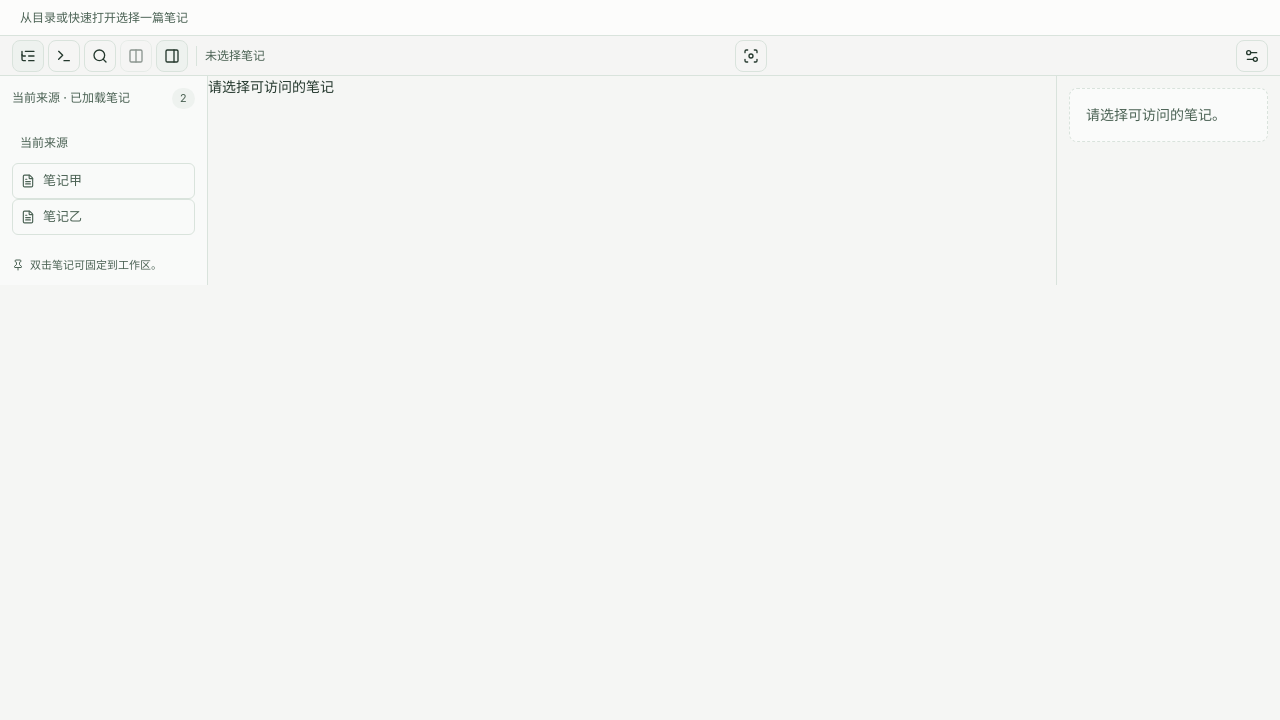
Test case: applies reading preferences and restores them only for the same scope
What coordinates should you click on to do the following:
click the button named "命令面板"
I would click on:
 (64, 56)
Its box is [48,40,80,72].
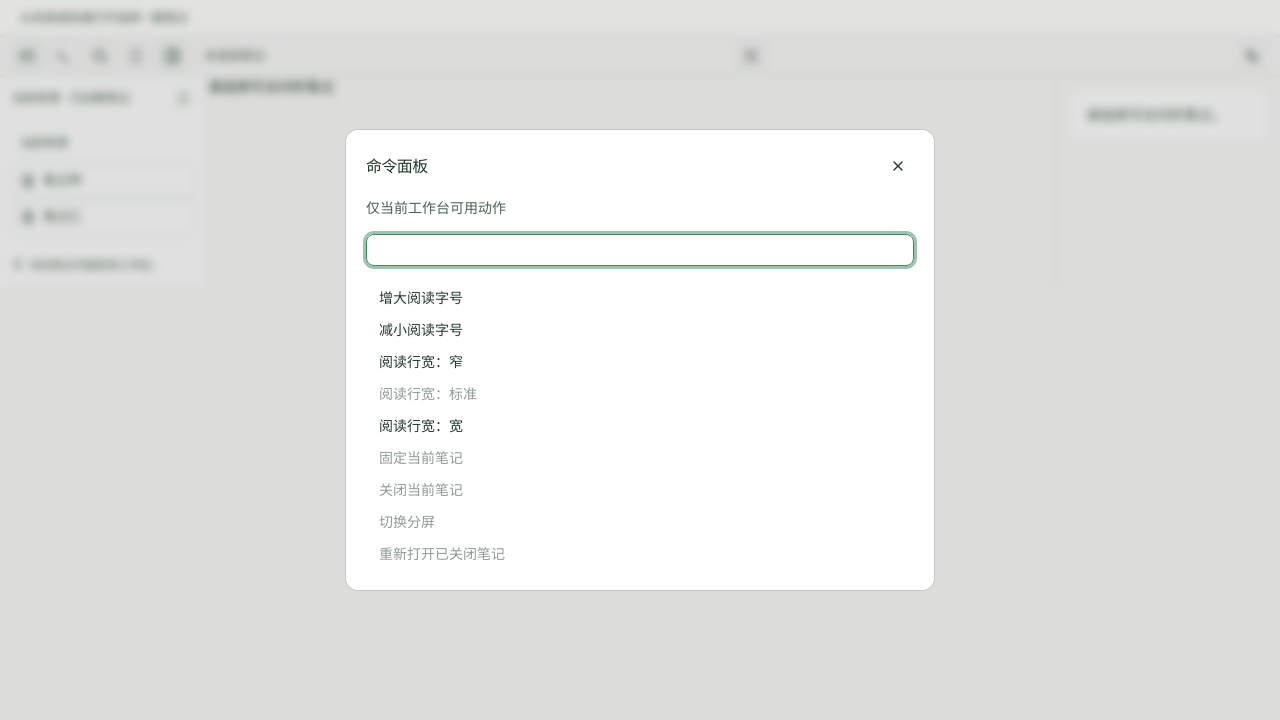
What coordinates should you click on to do the following:
click the button "增大阅读字号"
I would click on:
 (421, 298)
Its box is [366,282,914,314].
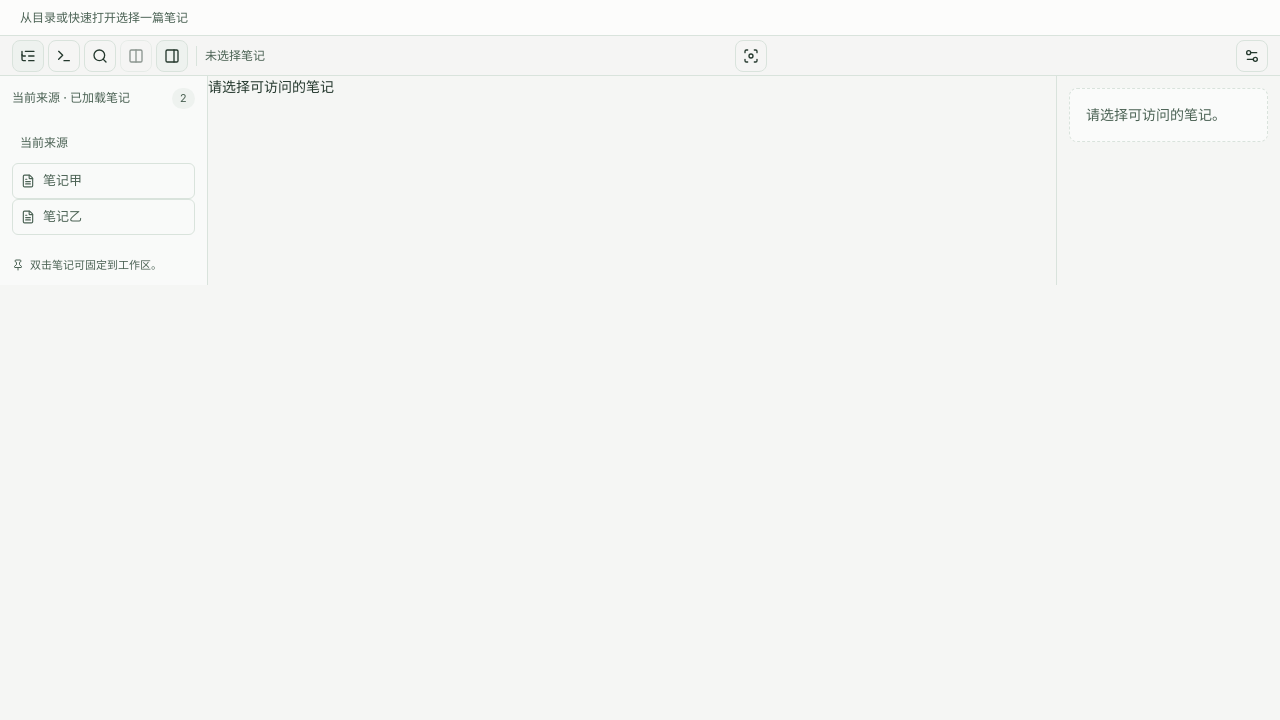
Expected: the dialog is gone
What coordinates should you click on to do the following:
click the button named "命令面板"
I would click on:
 (64, 56)
Its box is [48,40,80,72].
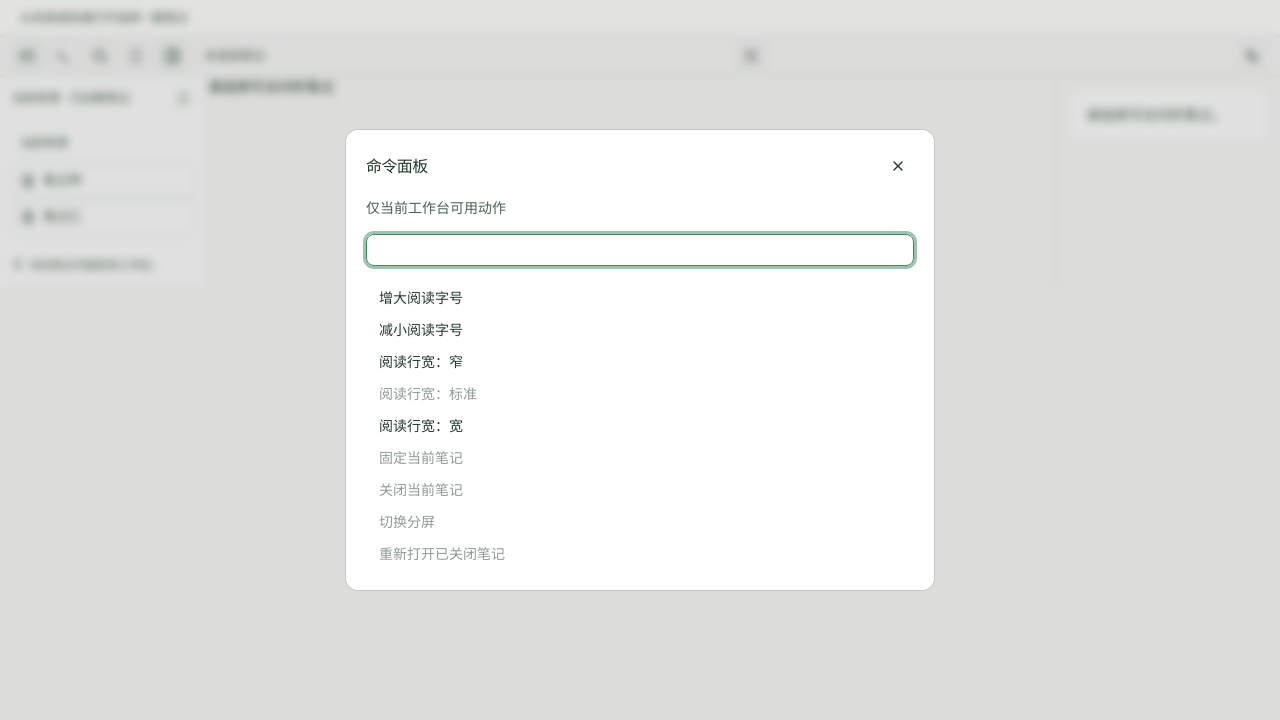
What coordinates should you click on to do the following:
click the button "阅读行宽：宽"
I would click on:
 (421, 426)
Its box is [366,410,914,442].
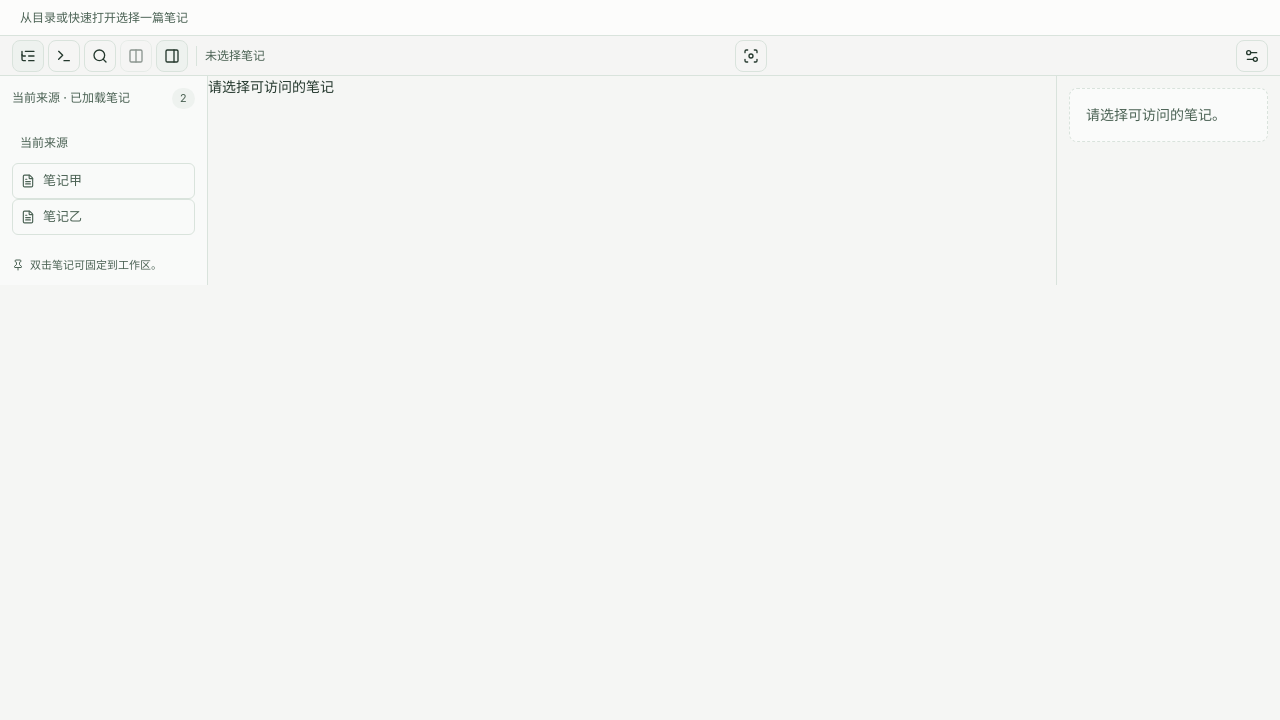
Expected: the dialog is gone
